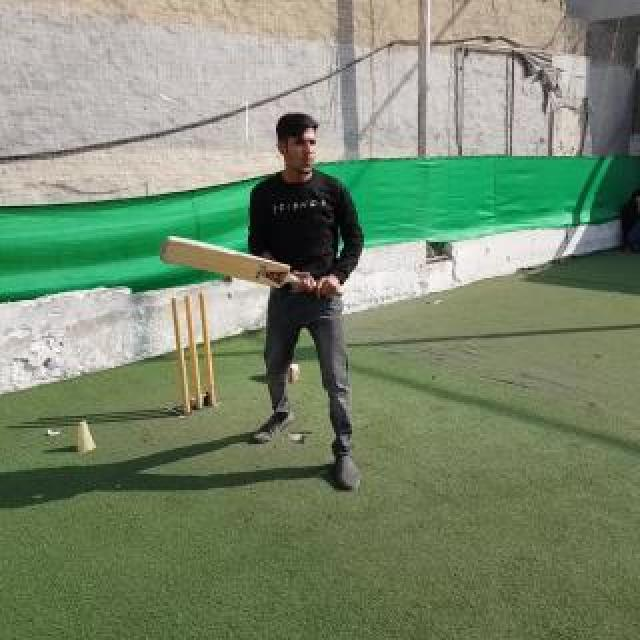bat: (160, 236, 344, 296)
